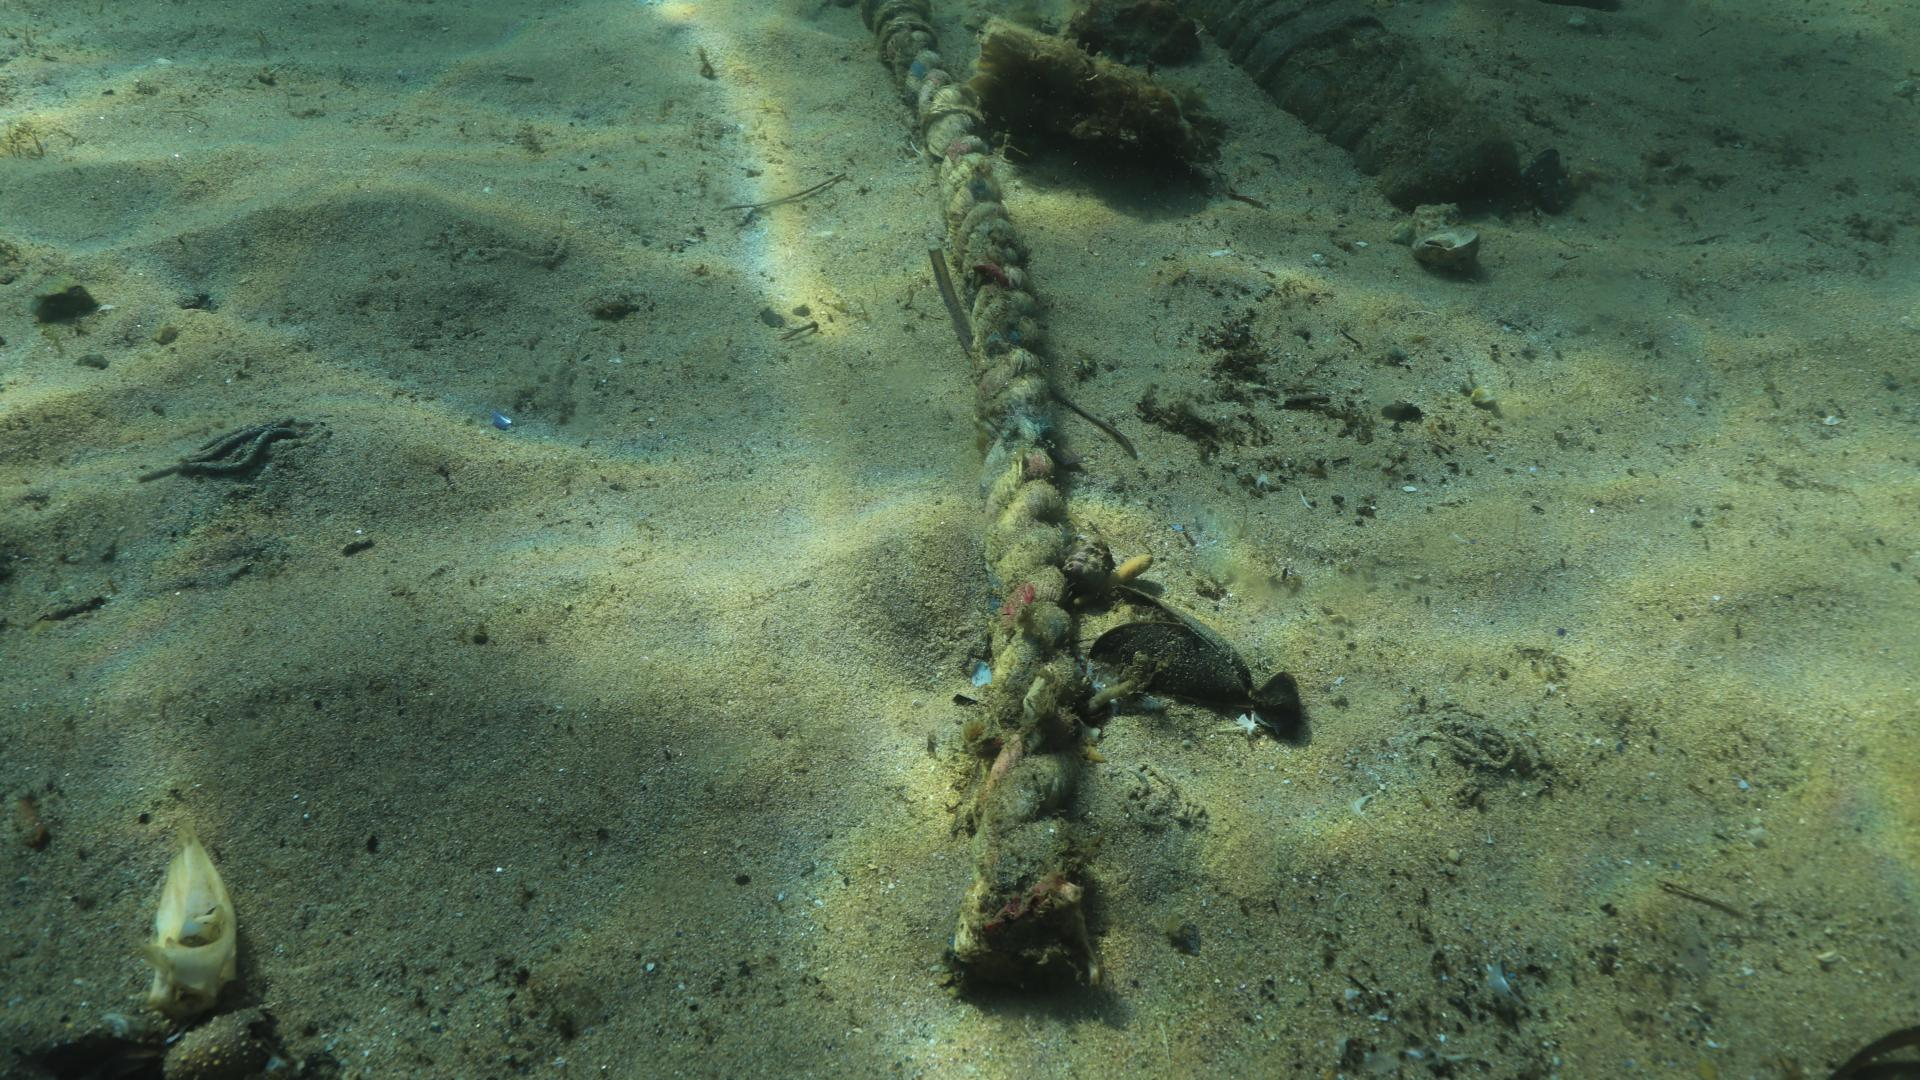rope: (858, 0, 1087, 858)
